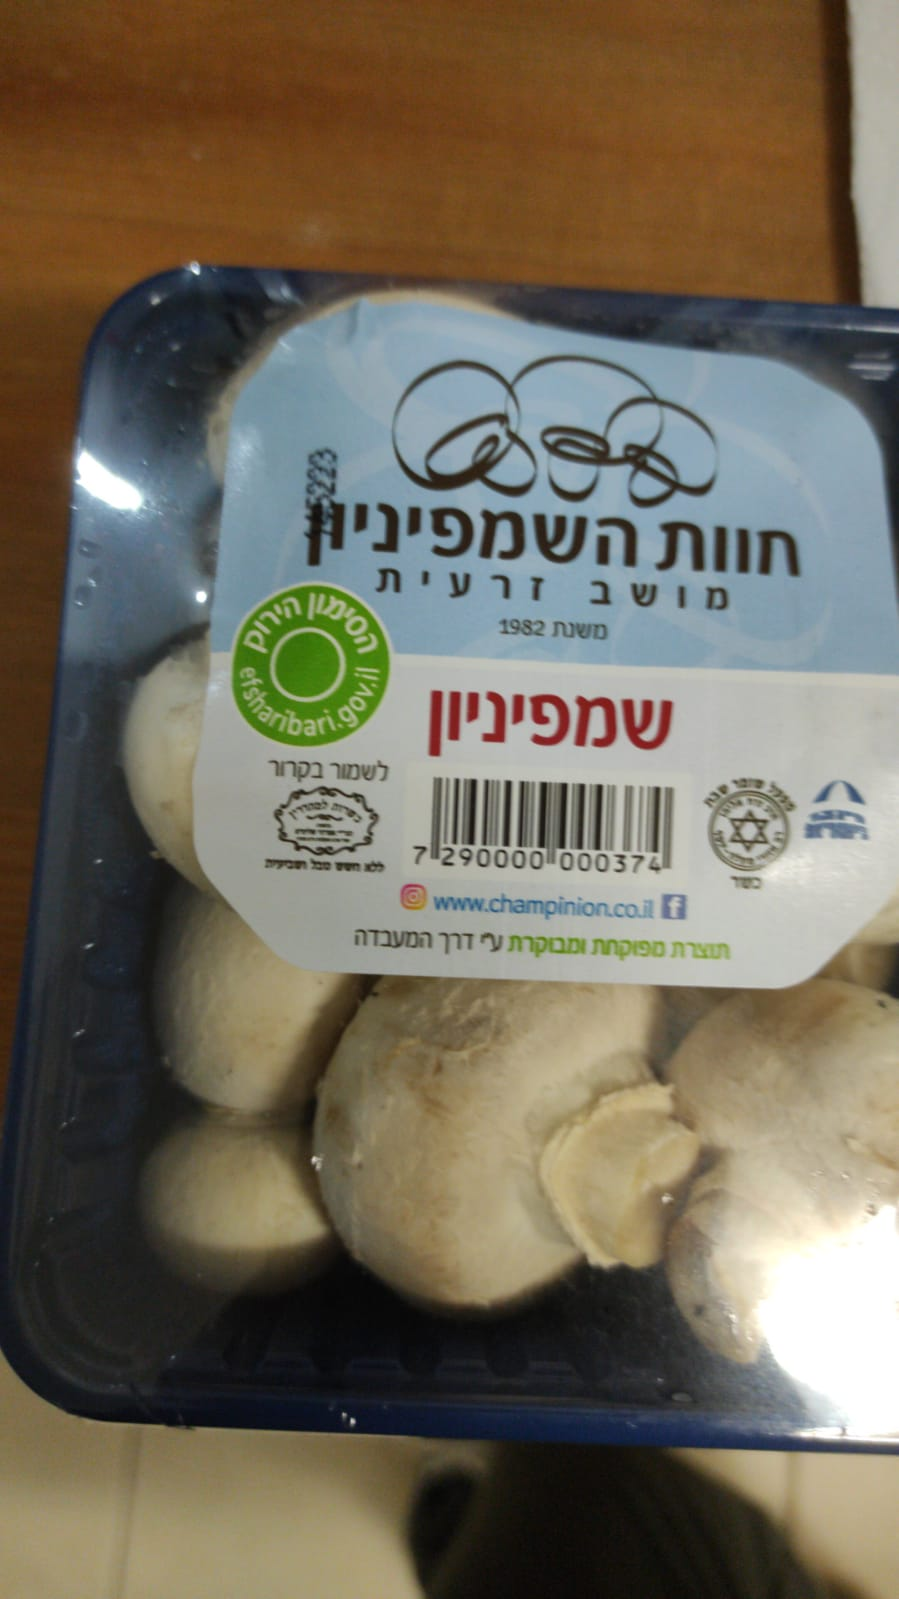green: (231, 580, 393, 750)
